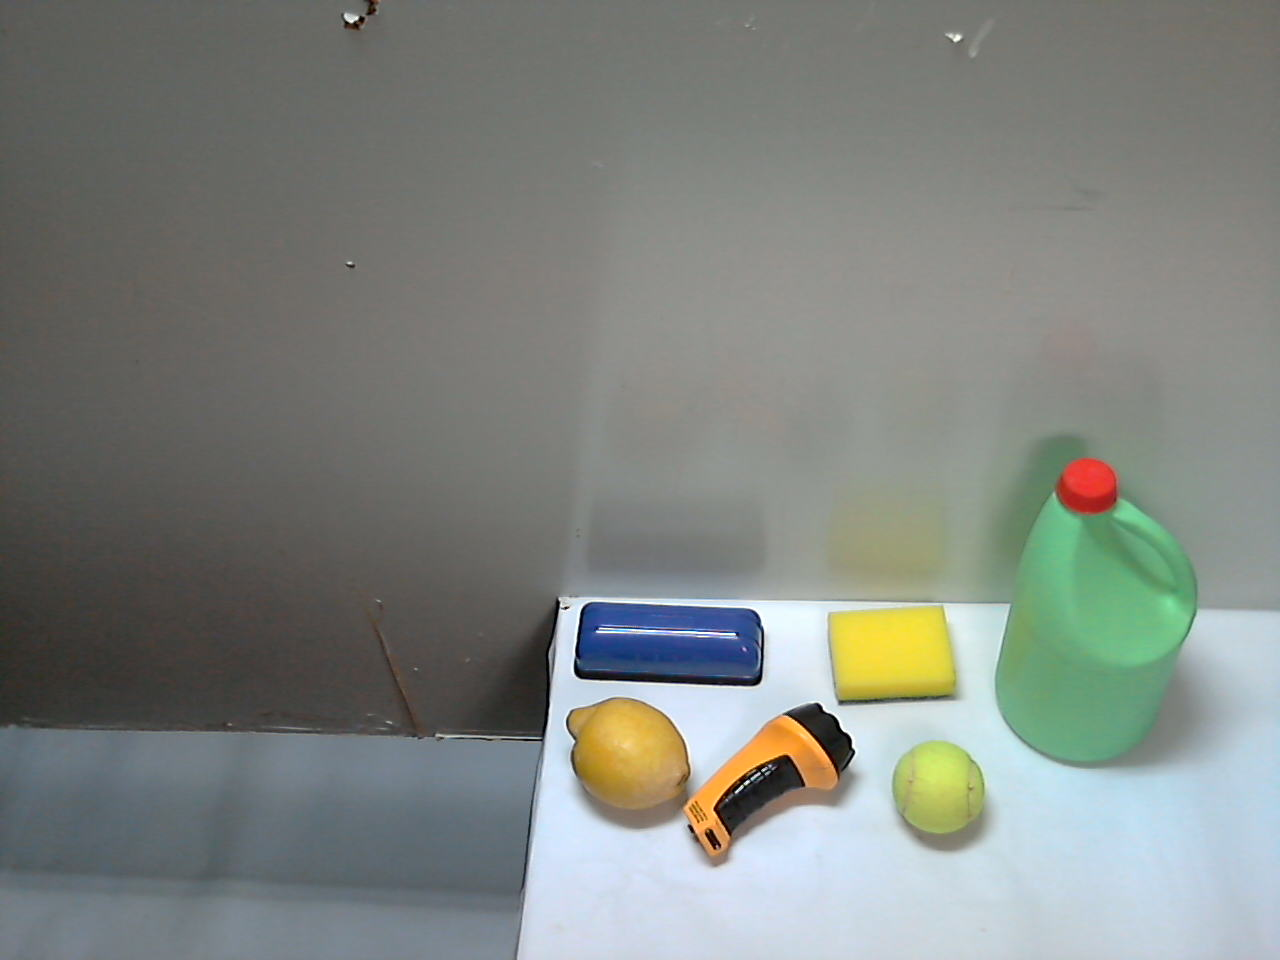cloroplano: (974, 532, 1214, 841)
estuche: (727, 639, 964, 784)
mostaza: (738, 717, 841, 881)
sarten: (452, 622, 733, 960)
uslero: (588, 853, 1156, 960)
